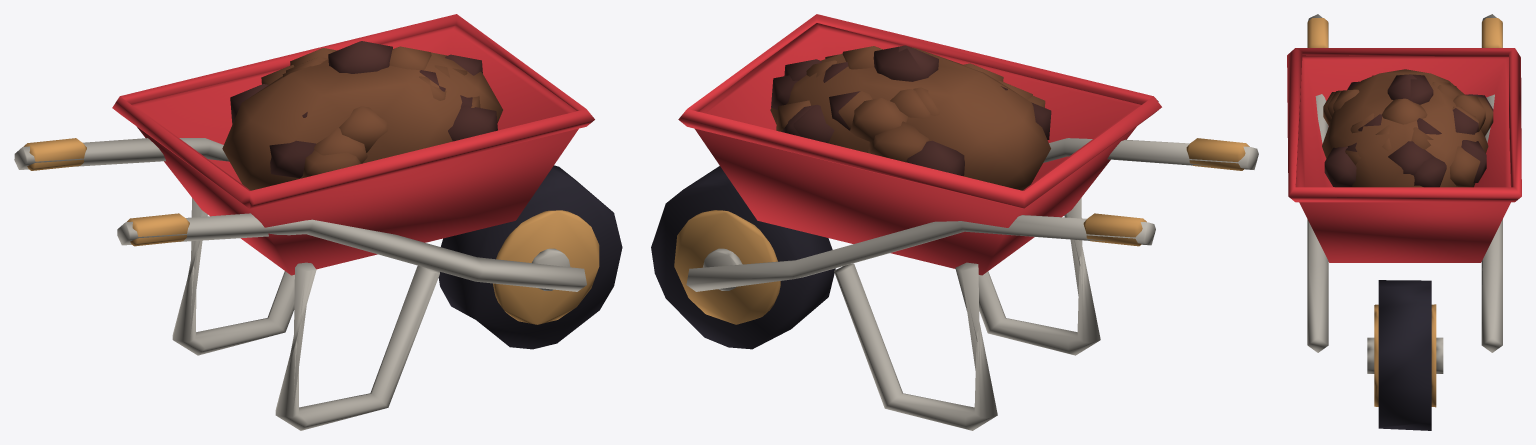
Rendered from prop.wheelbarrow.lod1.glb.
The picture shows the model from 3 angles, left to right: view 1: azimuth 30°, elevation 25°; view 2: azimuth 150°, elevation 25°; view 3: azimuth 270°, elevation 25°; orthographic projection. The views are drawn at different scales.
Size of the model in its own units: 1.38 by 0.8215 by 0.6201.
